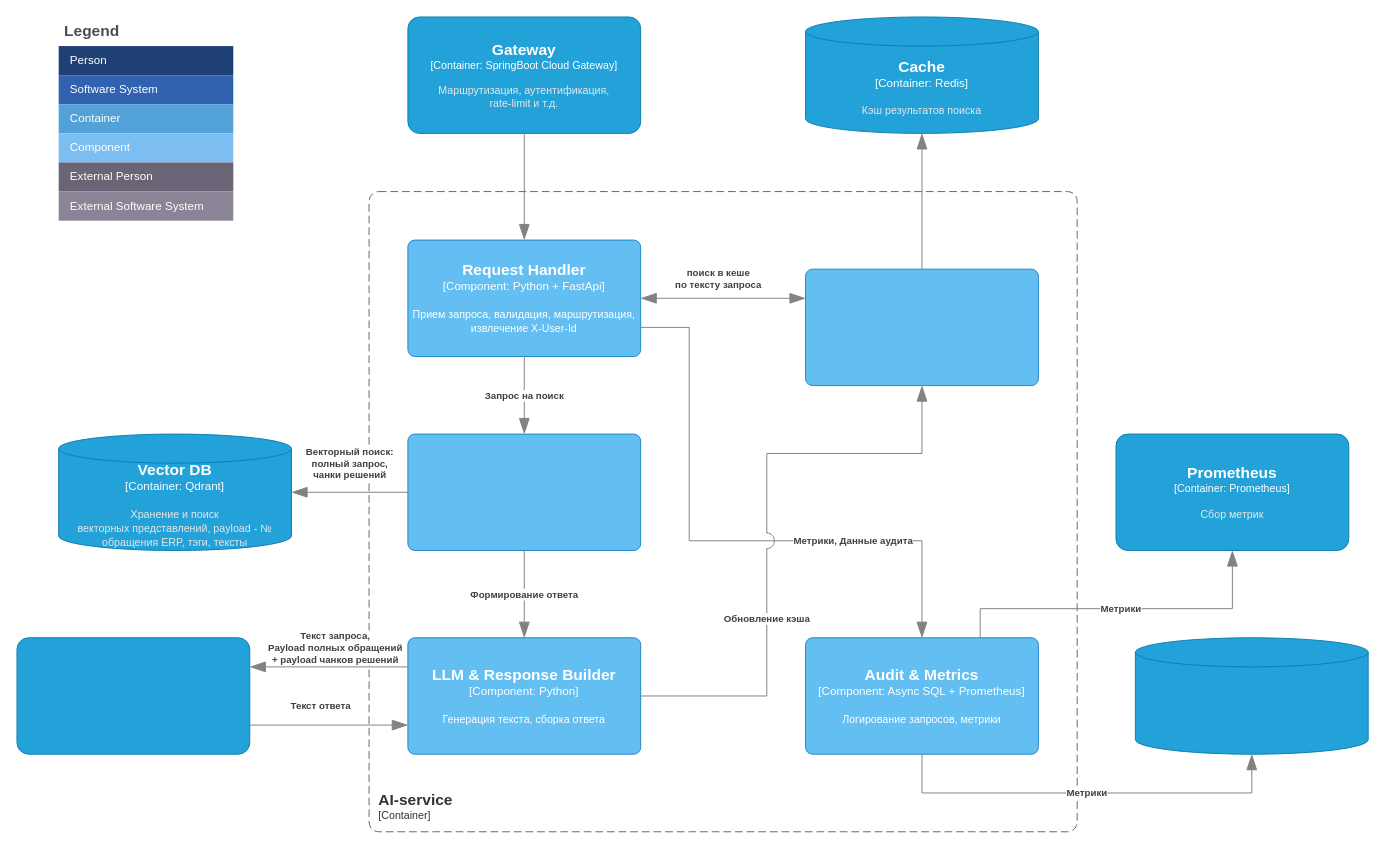
Some shapes in this 1385 by 849 pixel diagram are drawn without their labels. Each missing label, with the centre of its shape:
"Cache Manager [Component: Redis client] Проверка / сохранение кэша" belongs at pixel 921 327.
"Model Serving [Container: Qwen, Qwen_embedding] Модели" belongs at pixel 133 695.
"Search Orchestrator [Component: Python] Эмбеддинг, поиск в Qdrant, ранжирование" belongs at pixel 524 491.
"SQL DB [Container: PostgreSQL] Сырые справочники, метаданные" belongs at pixel 1251 695.
